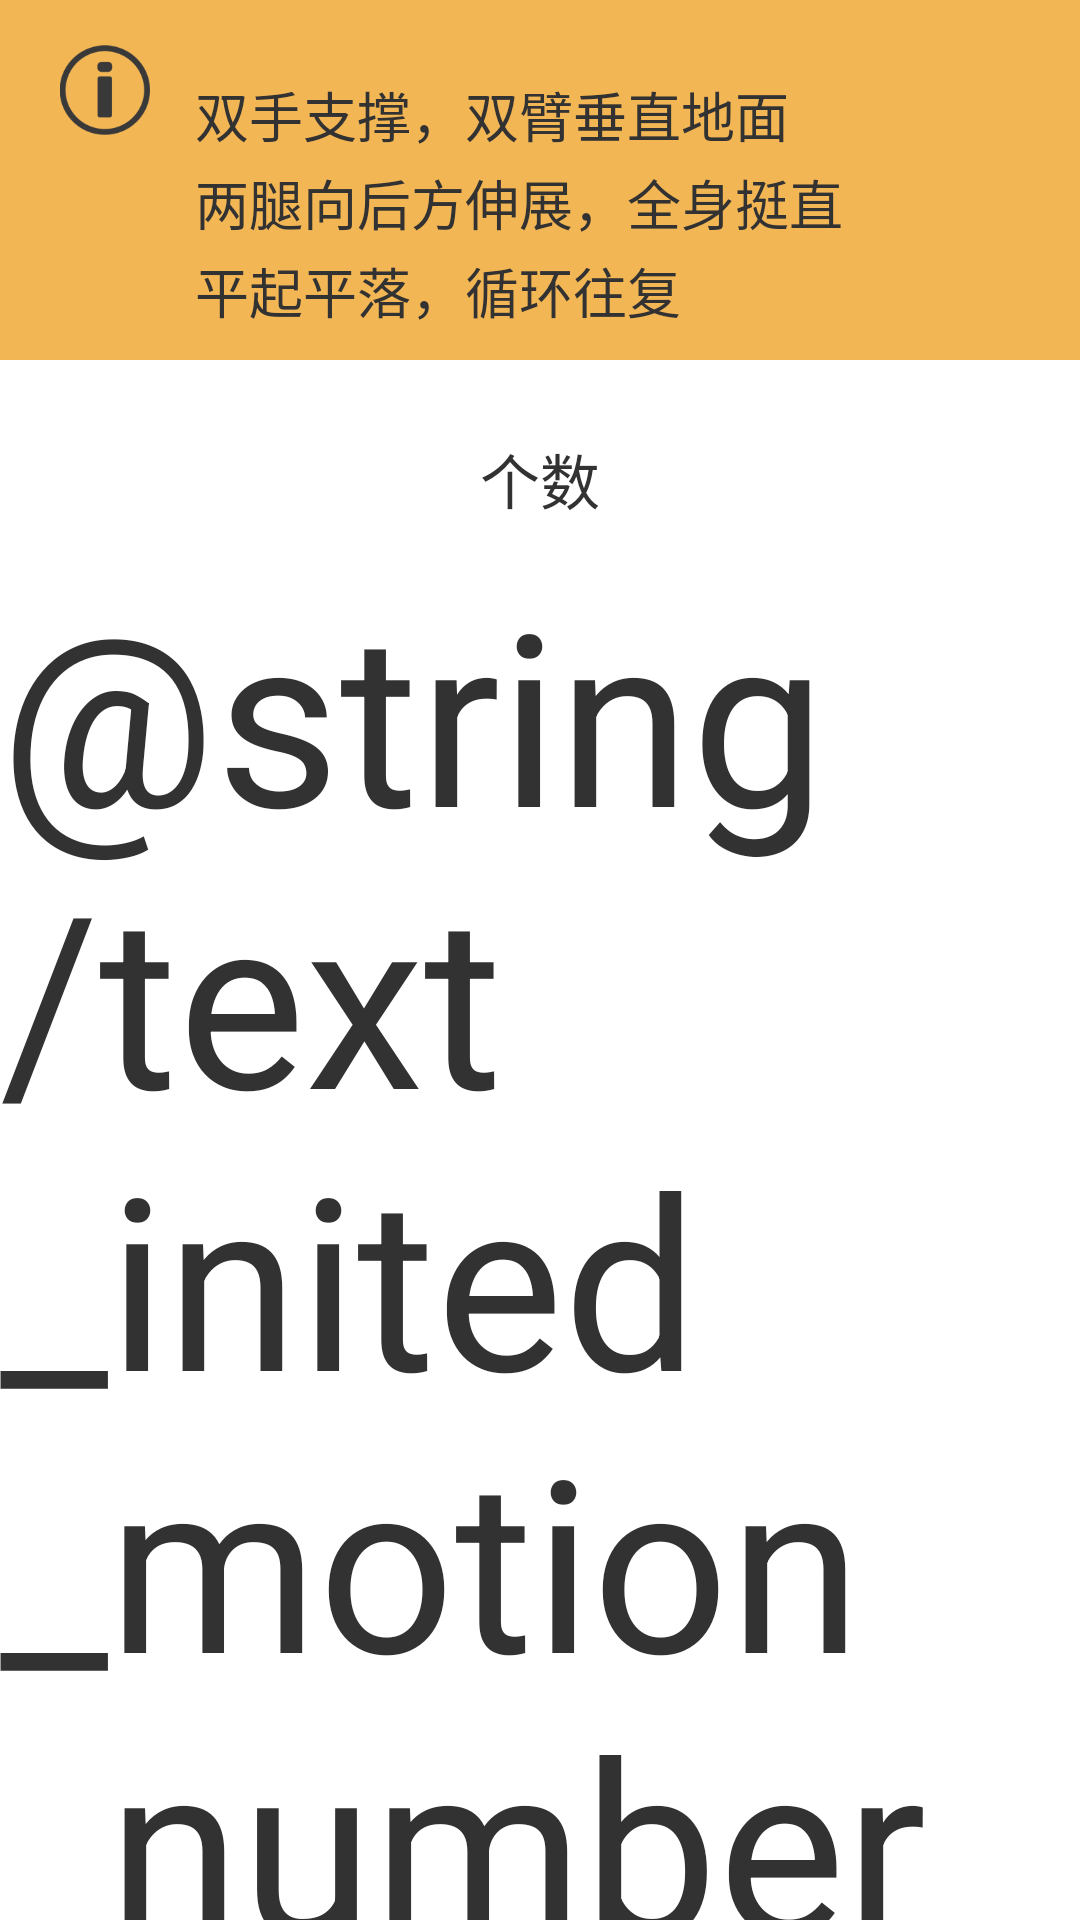

Named icons in this screenshot (1080×1920) and their bounding boxes, (x1, y1, x2, y2):
sport info: (60, 45, 150, 135)
